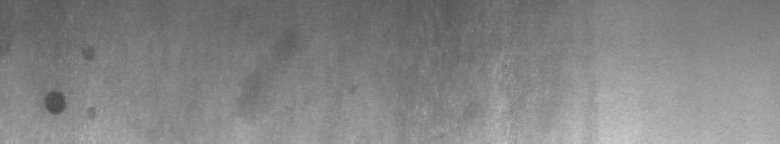fi: (6, 42, 102, 128)
